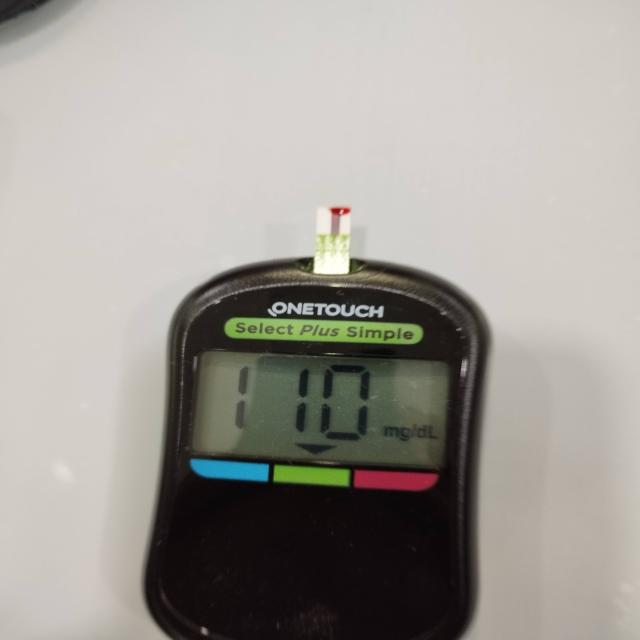gluco: (142, 208, 492, 640)
